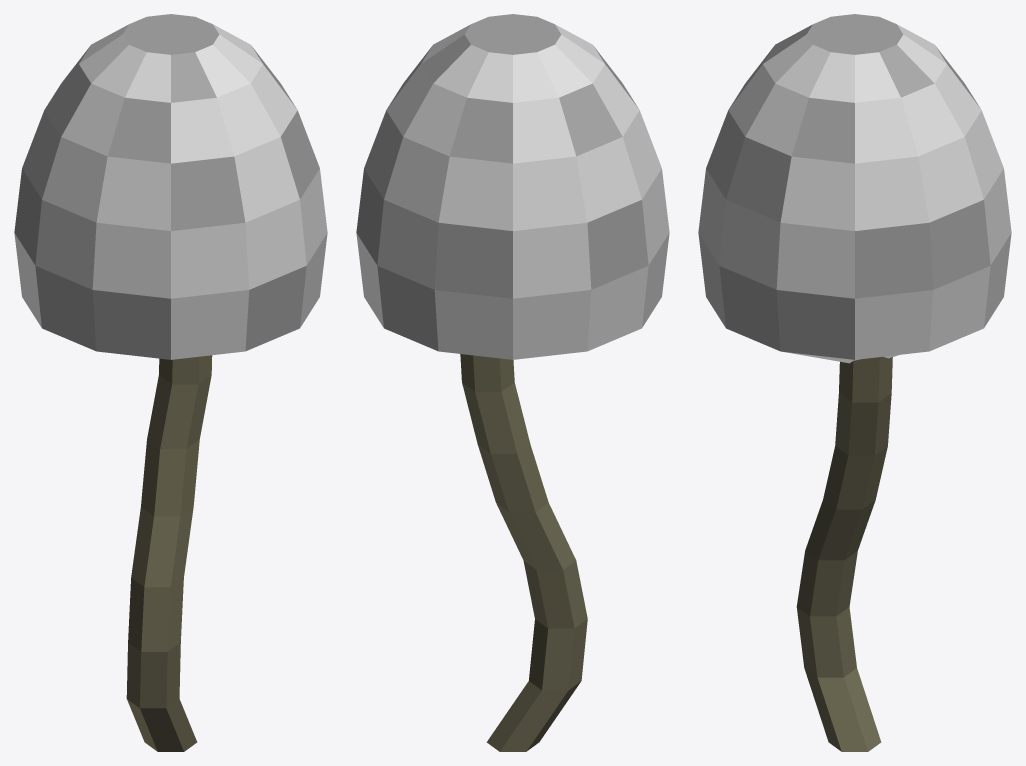
Rendered from Mushroom_2_White.fbx.
3 views of the same model, side by side, from view 1: azimuth 30°, elevation 25°; view 2: azimuth 150°, elevation 25°; view 3: azimuth 270°, elevation 25° (orthographic).
Visible parts, largest first — view 1: Mushroom_2_White; view 2: Mushroom_2_White; view 3: Mushroom_2_White.
Part boxes in pixels (x1,y1,x2,y2): Mushroom_2_White: (14,14,327,751); Mushroom_2_White: (356,14,669,751); Mushroom_2_White: (698,14,1011,751).
Size of the model in its own units: 11.86 by 29.58 by 11.86.
